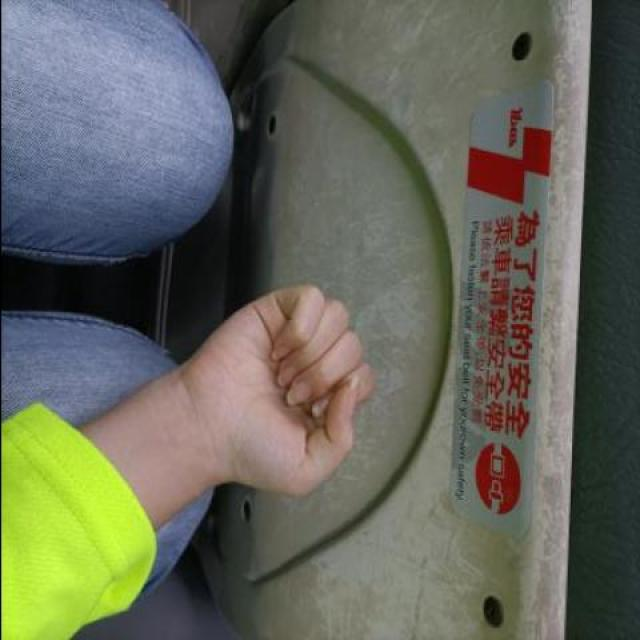Closed Hand: (194, 266, 370, 515)
